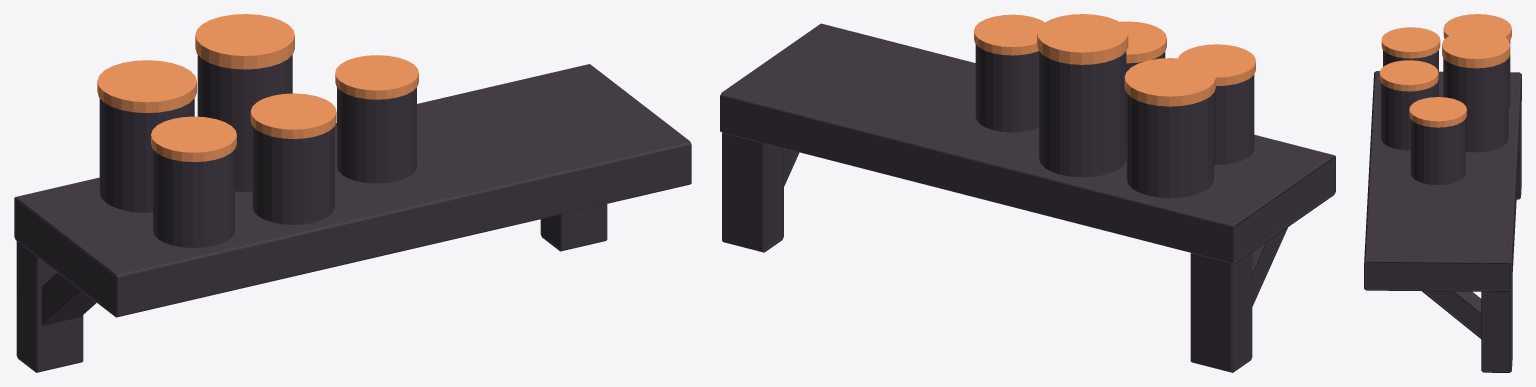
File: RepisaSM_01.fbx
The picture shows the model from 3 angles, left to right: view 1: azimuth 30°, elevation 25°; view 2: azimuth 150°, elevation 25°; view 3: azimuth 270°, elevation 25°; orthographic projection. The views are drawn at different scales.
Visible parts, largest first — view 1: Hang shelf.001; view 2: Hang shelf.001; view 3: Hang shelf.001.
Boxes of the visible parts, x1,y1,x2,y2 form: Hang shelf.001: (14,14,691,372); Hang shelf.001: (720,14,1335,372); Hang shelf.001: (1364,14,1521,372).
Bounding box in the file's own units: 298 × 149 × 104.
